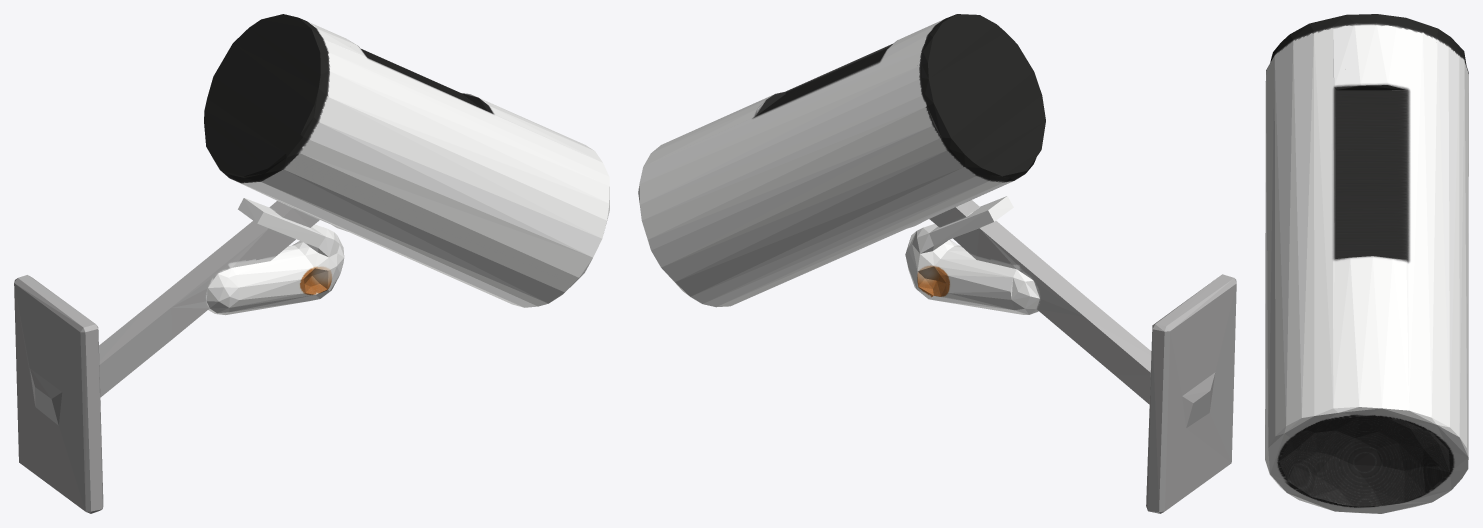
File: kamera.glb
The picture shows the model from 3 angles, left to right: view 1: azimuth 30°, elevation 25°; view 2: azimuth 150°, elevation 25°; view 3: azimuth 270°, elevation 25°; orthographic projection. The views are drawn at different scales.
Visible parts, largest first — view 1: 282397_23_05_24_18_27_55_0; view 2: 282397_23_05_24_18_27_55_0; view 3: 282397_23_05_24_18_27_55_0.
Part boxes in pixels (x1,y1,x2,y2): 282397_23_05_24_18_27_55_0: (14, 14, 609, 513); 282397_23_05_24_18_27_55_0: (638, 14, 1236, 513); 282397_23_05_24_18_27_55_0: (1265, 14, 1468, 513).
Bounding box in the file's own units: 17.82 × 12.73 × 4.97.
1 material, 1 textured.
